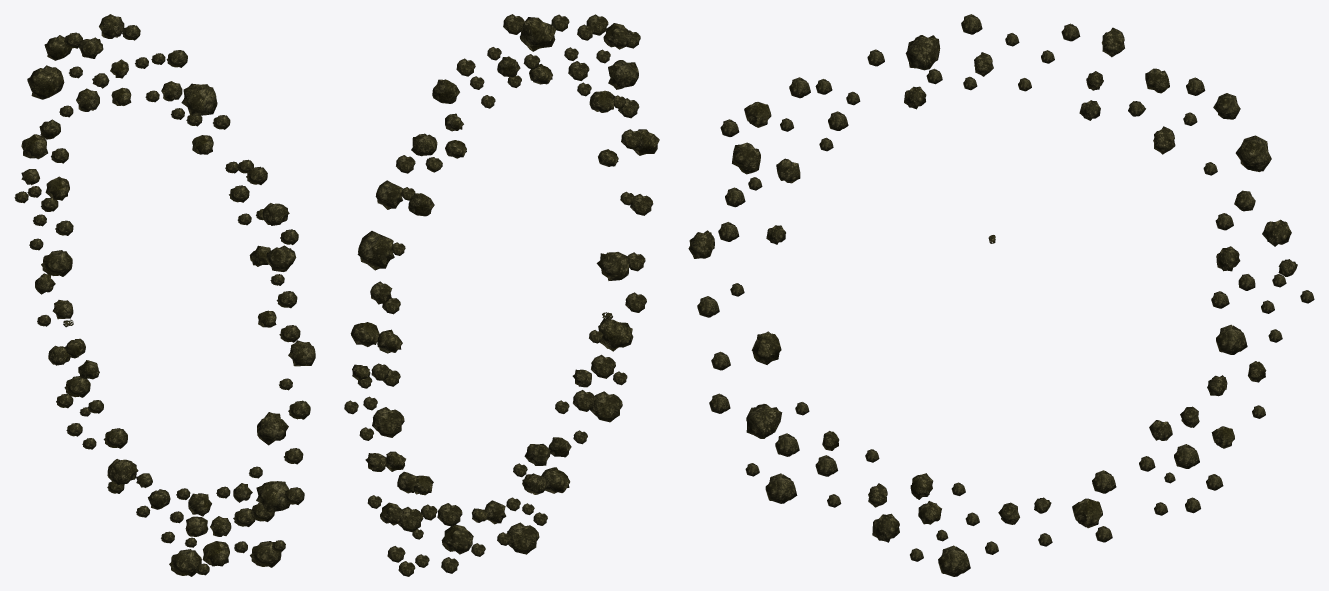
Rendered from asteroids_field.fbx.
3 renders of one model, left to right at view 1: azimuth 30°, elevation 25°; view 2: azimuth 150°, elevation 25°; view 3: azimuth 270°, elevation 25°, orthographic. The views are drawn at different scales.
Visible parts, largest first — view 1: Aster_Small_6_.008; view 2: Aster_Small_6_.008; view 3: Aster_Small_6_.008.
Boxes of the visible parts, x1,y1,x2,y2 form: Aster_Small_6_.008: (14, 14, 315, 576); Aster_Small_6_.008: (344, 14, 659, 576); Aster_Small_6_.008: (688, 14, 1314, 576).
Bounding box in the file's own units: 1184 × 4911 × 4980.
